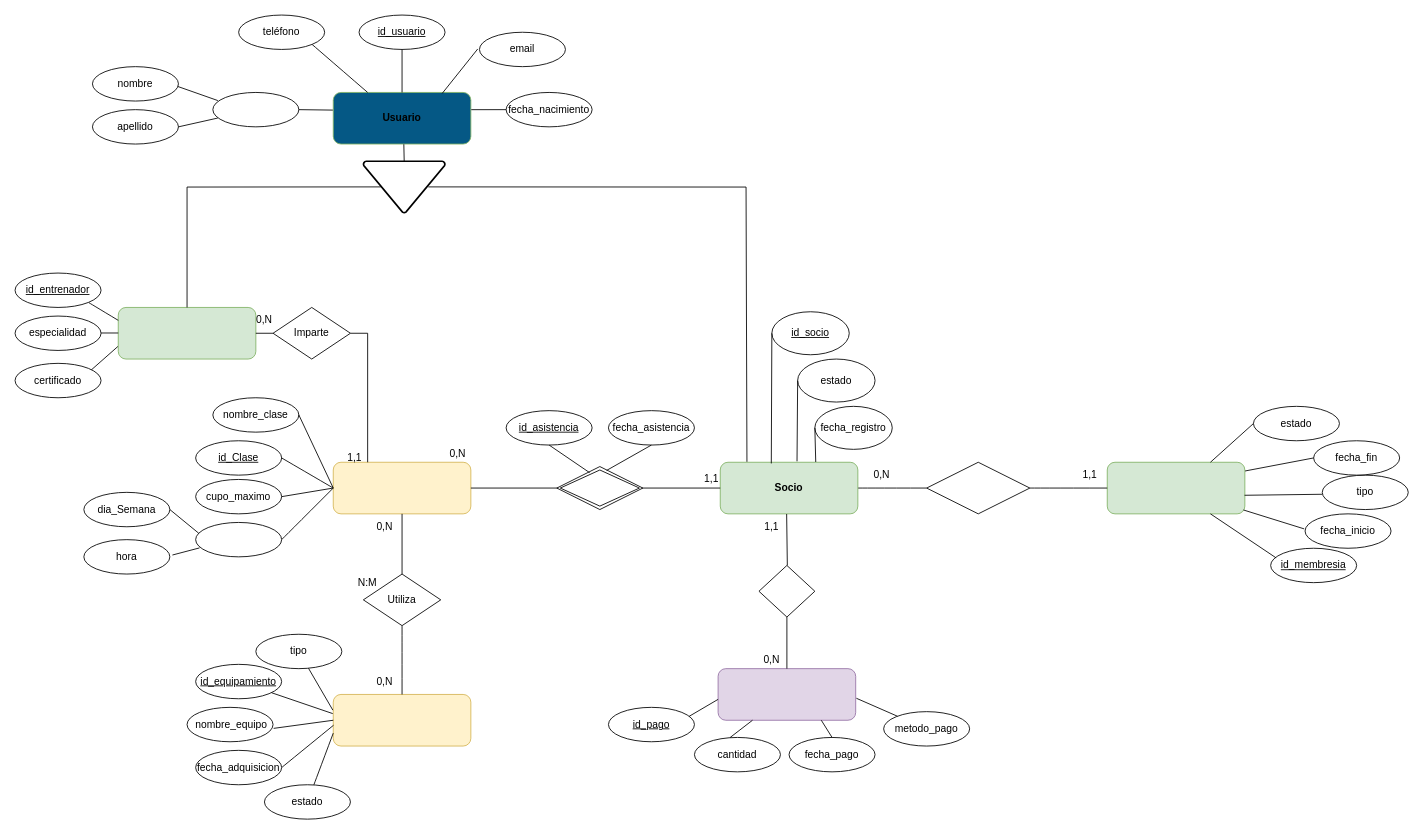
This 1423x834 diagram has some shape labels left out. The shapes that lost their labels are listed below. From the top down, each one's centre as x and y in pixels, then its label:
At pixel 255 109: "nombre_completo".
At pixel 403 186: "Superpuesta parcial".
At pixel 186 333: "Entrenador".
At pixel 401 487: "Clase".
At pixel 599 488: "Asiste".
At pixel 978 487: "Posee".
At pixel 1175 487: "Membresia".
At pixel 238 539: "fecha".
At pixel 786 591: "Realiza".
At pixel 786 694: "Pago".
At pixel 401 720: "Equipamiento".
